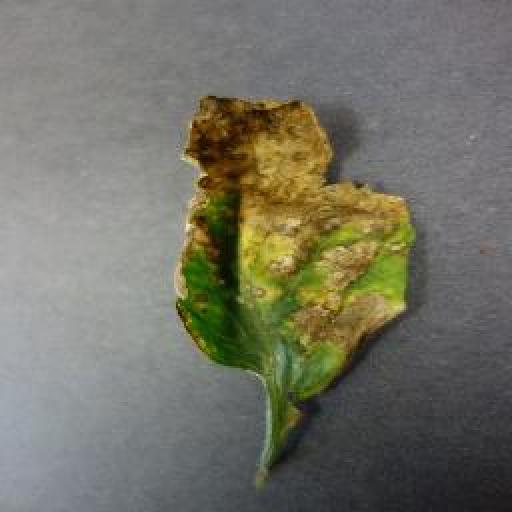Bacterial Spot: (180, 87, 416, 428)
